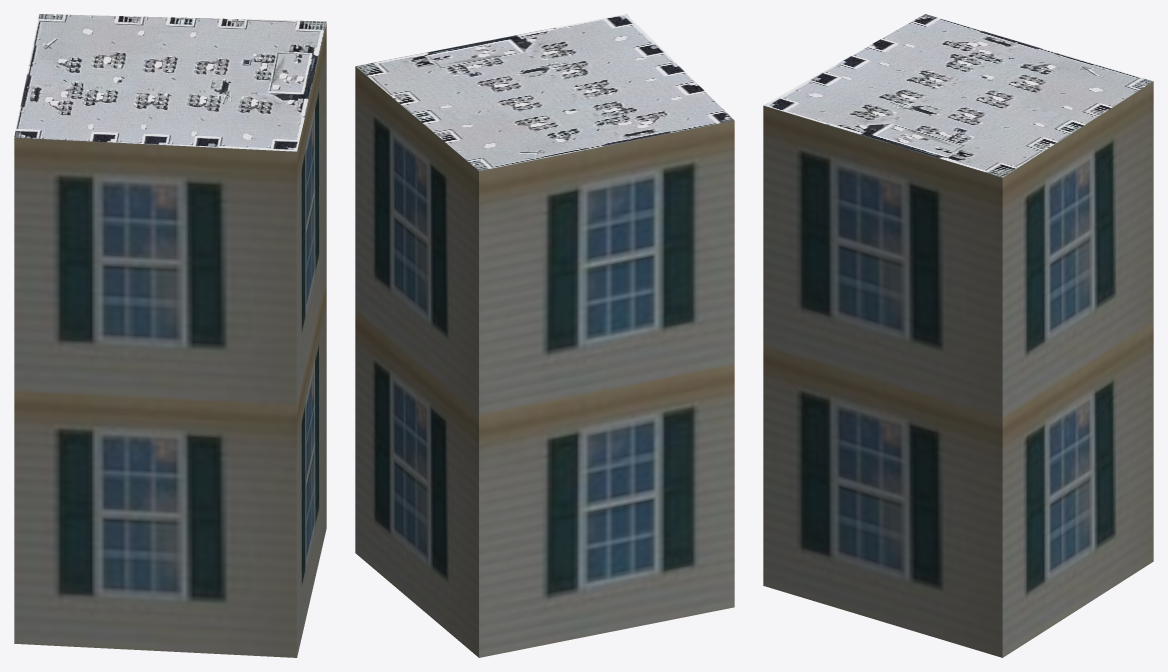
Rendered from ResTex__4094.fbx.
The picture shows the model from 3 angles, left to right: view 1: azimuth 30°, elevation 25°; view 2: azimuth 150°, elevation 25°; view 3: azimuth 270°, elevation 25°; orthographic projection. The views are drawn at different scales.
Parts seen in each view (by area): view 1: CityEngineMaterial_7_m, CityEngineMaterial_2_m; view 2: CityEngineMaterial_7_m, CityEngineMaterial_2_m; view 3: CityEngineMaterial_7_m, CityEngineMaterial_2_m.
Boxes of the visible parts, bbox=[...] form: CityEngineMaterial_7_m: bbox=[14, 23, 326, 657]; CityEngineMaterial_2_m: bbox=[14, 14, 326, 151]; CityEngineMaterial_7_m: bbox=[355, 66, 734, 657]; CityEngineMaterial_2_m: bbox=[355, 14, 733, 170]; CityEngineMaterial_7_m: bbox=[763, 81, 1153, 657]; CityEngineMaterial_2_m: bbox=[763, 14, 1152, 177].
Bounding box in the file's own units: 4.38 × 6 × 4.42.
Materials: 2 (2 with a texture image).
